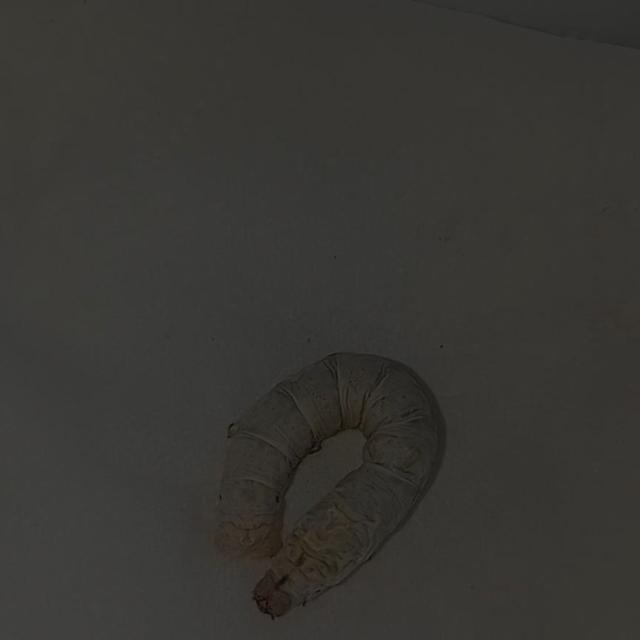Healthy: (187, 329, 463, 640)
